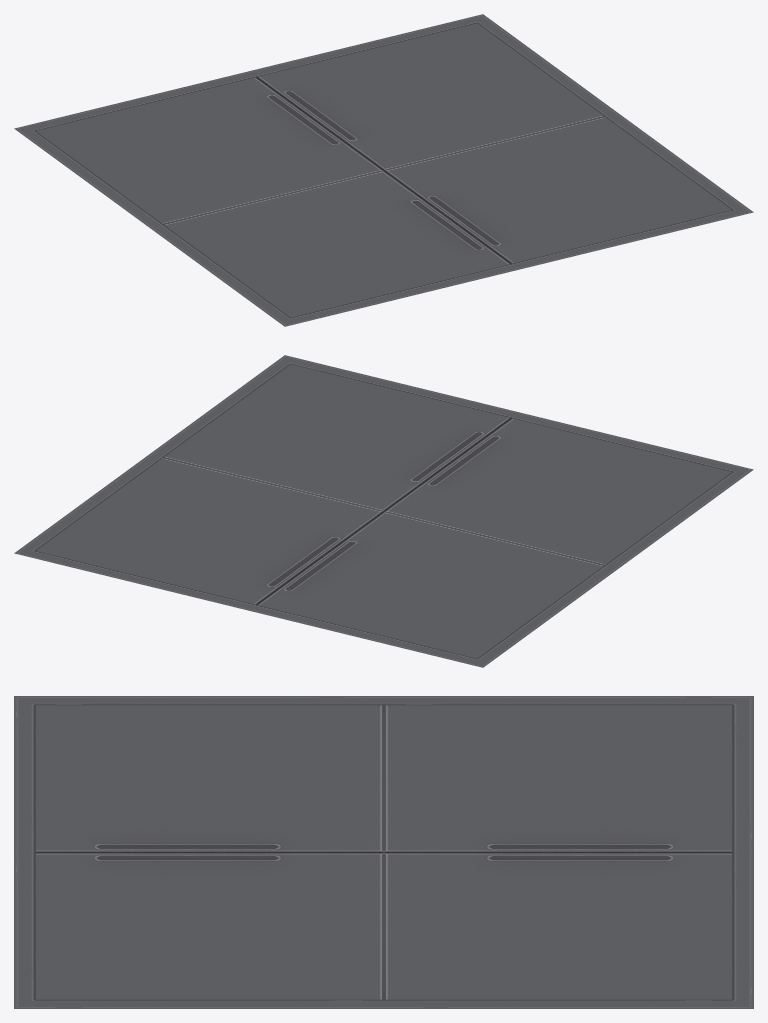
The model's file is Platform_Squares.gltf.
3 views of the same model, one above another, from view 1: azimuth 30°, elevation 25°; view 2: azimuth 150°, elevation 25°; view 3: azimuth 270°, elevation 25° (orthographic). The views are drawn at different scales.
Visible parts, largest first — view 1: Platform_Squares; view 2: Platform_Squares; view 3: Platform_Squares.
Boxes of the visible parts, bbox=[...] form: Platform_Squares: bbox=[14, 14, 753, 326]; Platform_Squares: bbox=[14, 355, 753, 667]; Platform_Squares: bbox=[14, 696, 753, 1008].
Size of the model in its own units: 4 by 0 by 4.
1 material, 1 textured.
